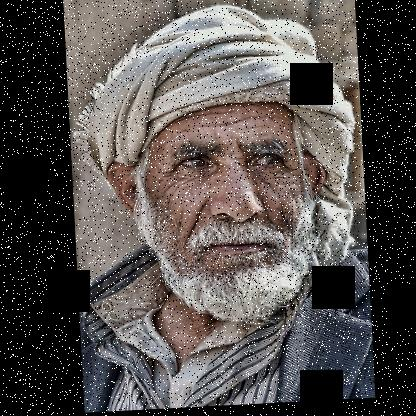Male: (101, 104, 331, 327)
